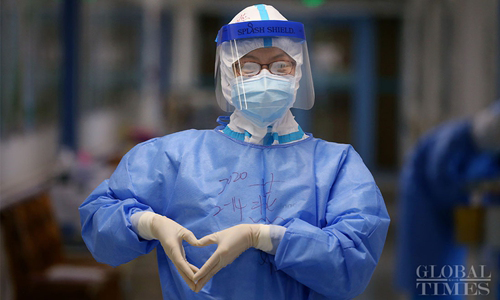Coverall: (79, 5, 391, 300)
Face_Shield: (212, 20, 317, 112)
Gloves: (136, 213, 197, 292), (197, 224, 264, 293)
with_mask: (232, 70, 297, 127)
